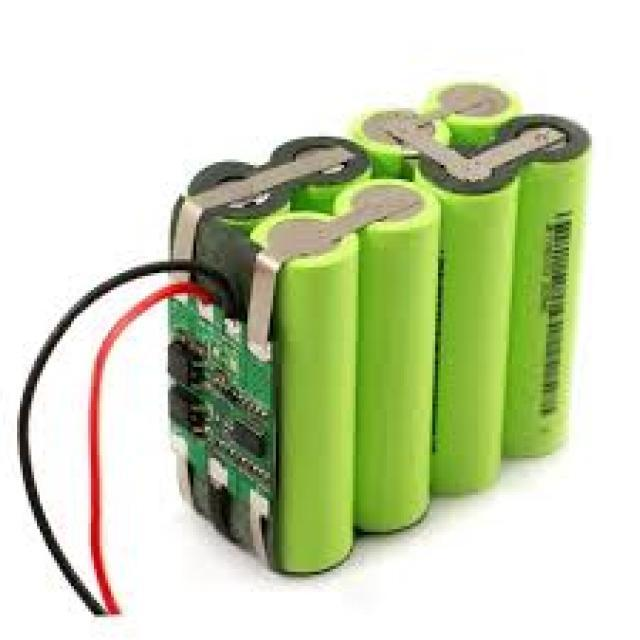battery: (0, 80, 598, 623)
